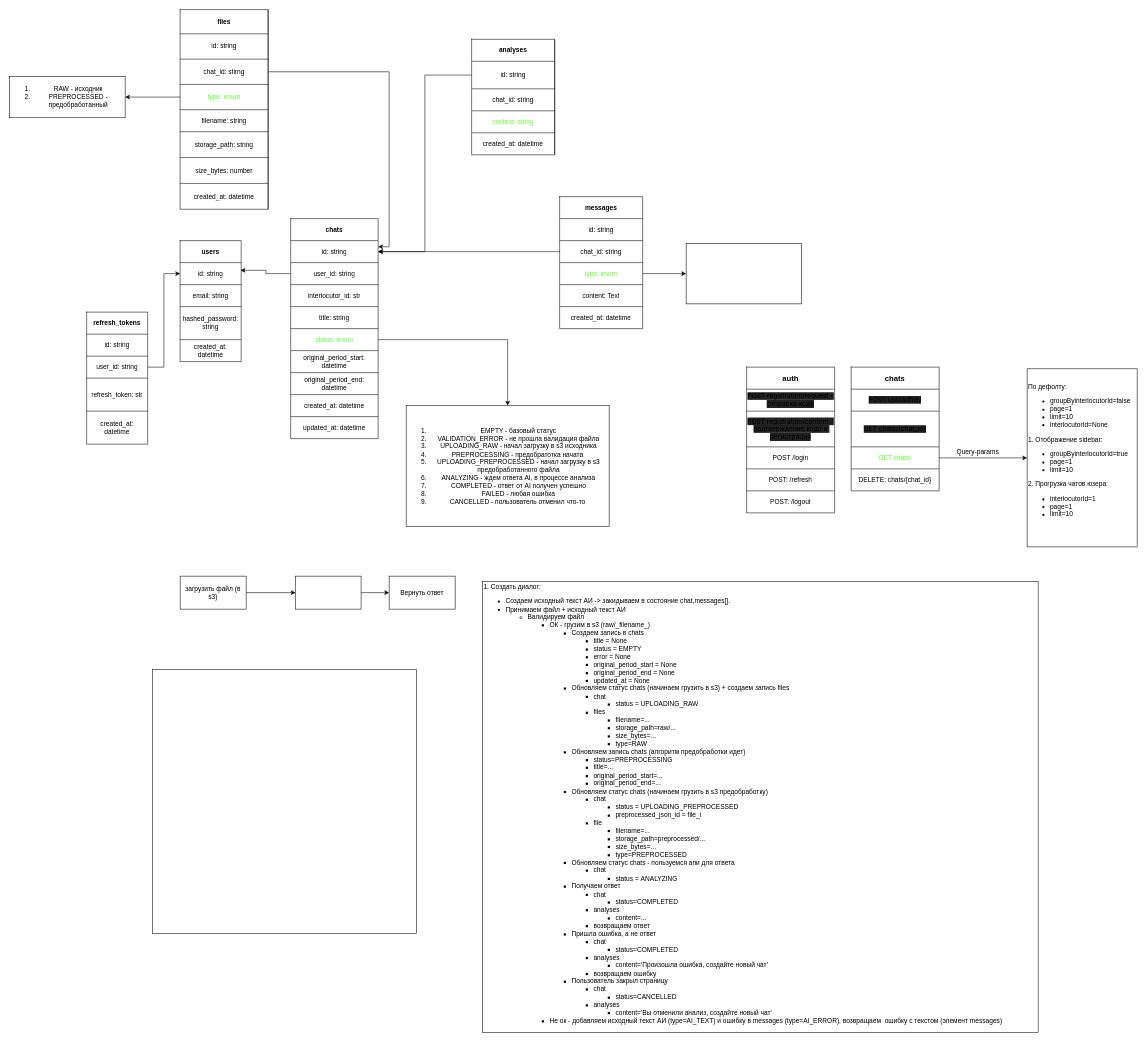
Some shapes in this 1147 by 1042 pixel diagram are drawn without their labels. Each missing label, with the box of its shape:
2. Открыть диалог возвращаем messages+analyses по user_id: (152, 669, 417, 934)
USER_TEXT - текст пользователя AI_TEXT - текст АИ AI_ERROR - ошибка от АИ: (686, 243, 802, 304)
обработать чат: (295, 576, 361, 609)
